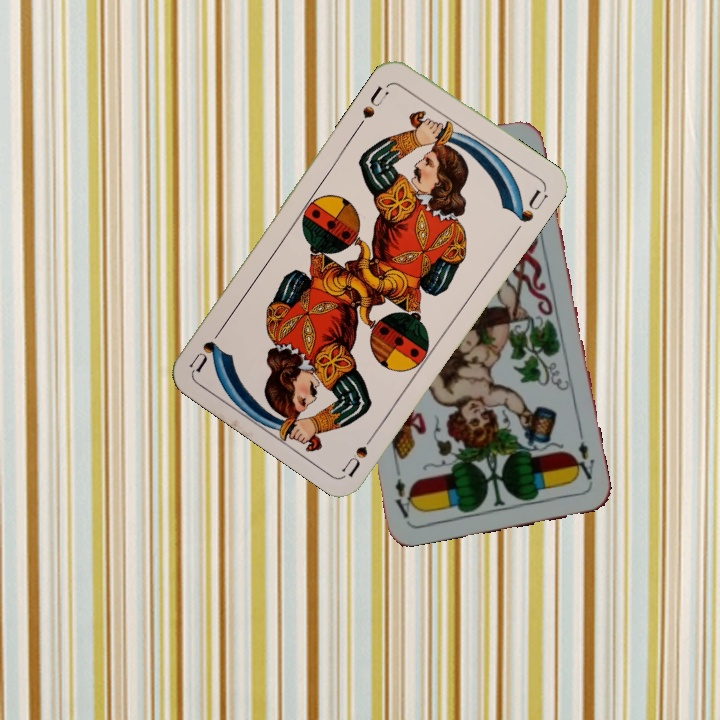EA: (569, 437, 598, 487)
SU: (338, 424, 381, 479), (353, 82, 391, 131)
